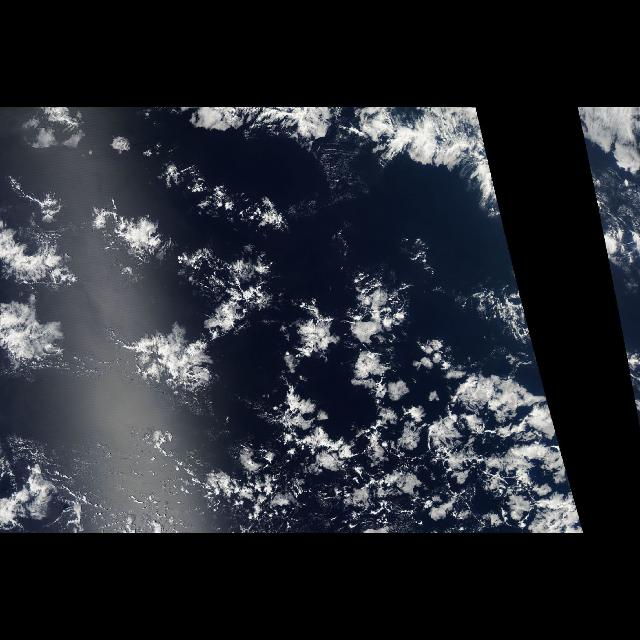Fish: (298, 110, 504, 224)
Flower: (85, 170, 562, 484)
